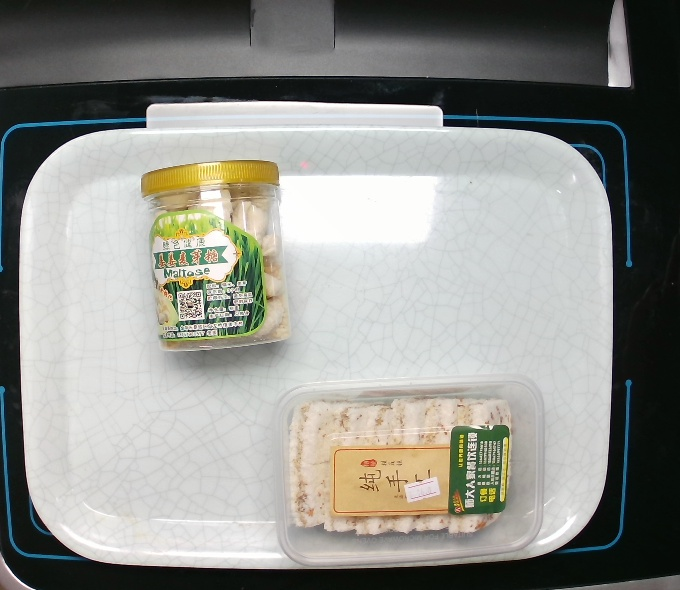wcq-GuiHuaGao: (271, 371, 549, 568)
wcq-MaiYaTang: (135, 156, 294, 355)
